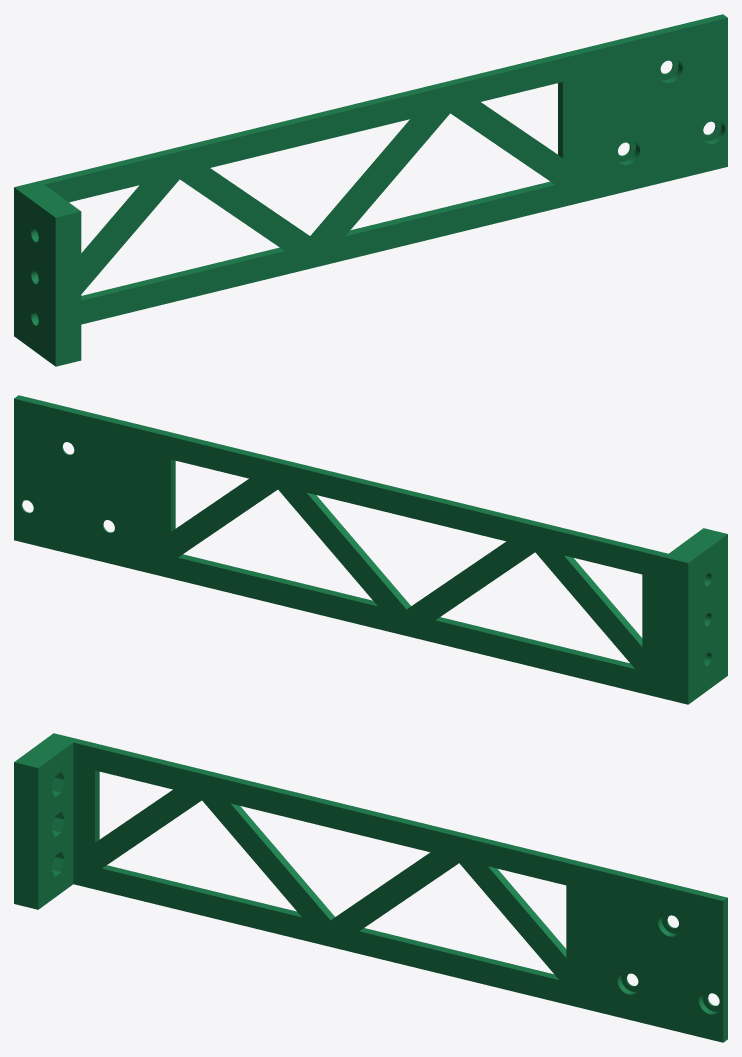
File: .rear_tie_right_half.step.glb
3 views of the same model, one above another, from view 1: azimuth 30°, elevation 25°; view 2: azimuth 150°, elevation 25°; view 3: azimuth 330°, elevation 25° (orthographic). The views are drawn at different scales.
Visible parts, largest first — view 1: o1; view 2: o1; view 3: o1.
Boxes of the visible parts, x1,y1,x2,y2 form: o1: [14, 14, 727, 366]; o1: [14, 395, 727, 704]; o1: [14, 733, 727, 1042].
Bounding box in the file's own units: 0.249 × 0.05 × 0.0254.
